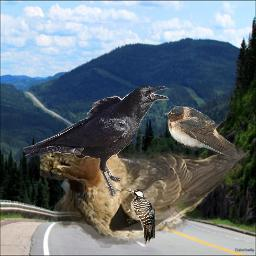Crow: (23, 85, 169, 199)
Swallow: (40, 134, 250, 248), (165, 106, 242, 159)
Woodpecker: (127, 189, 155, 244)
